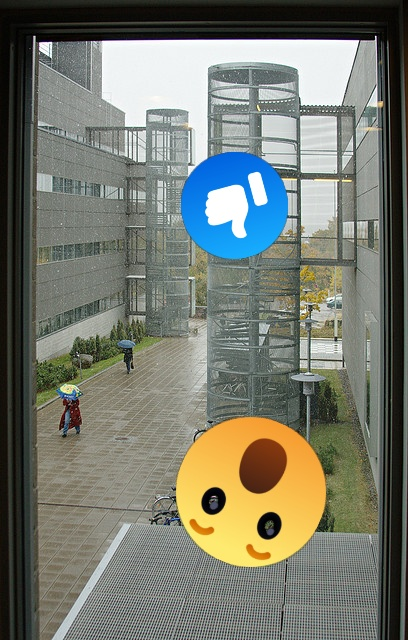like: (181, 152, 288, 259)
wow: (176, 417, 326, 567)
